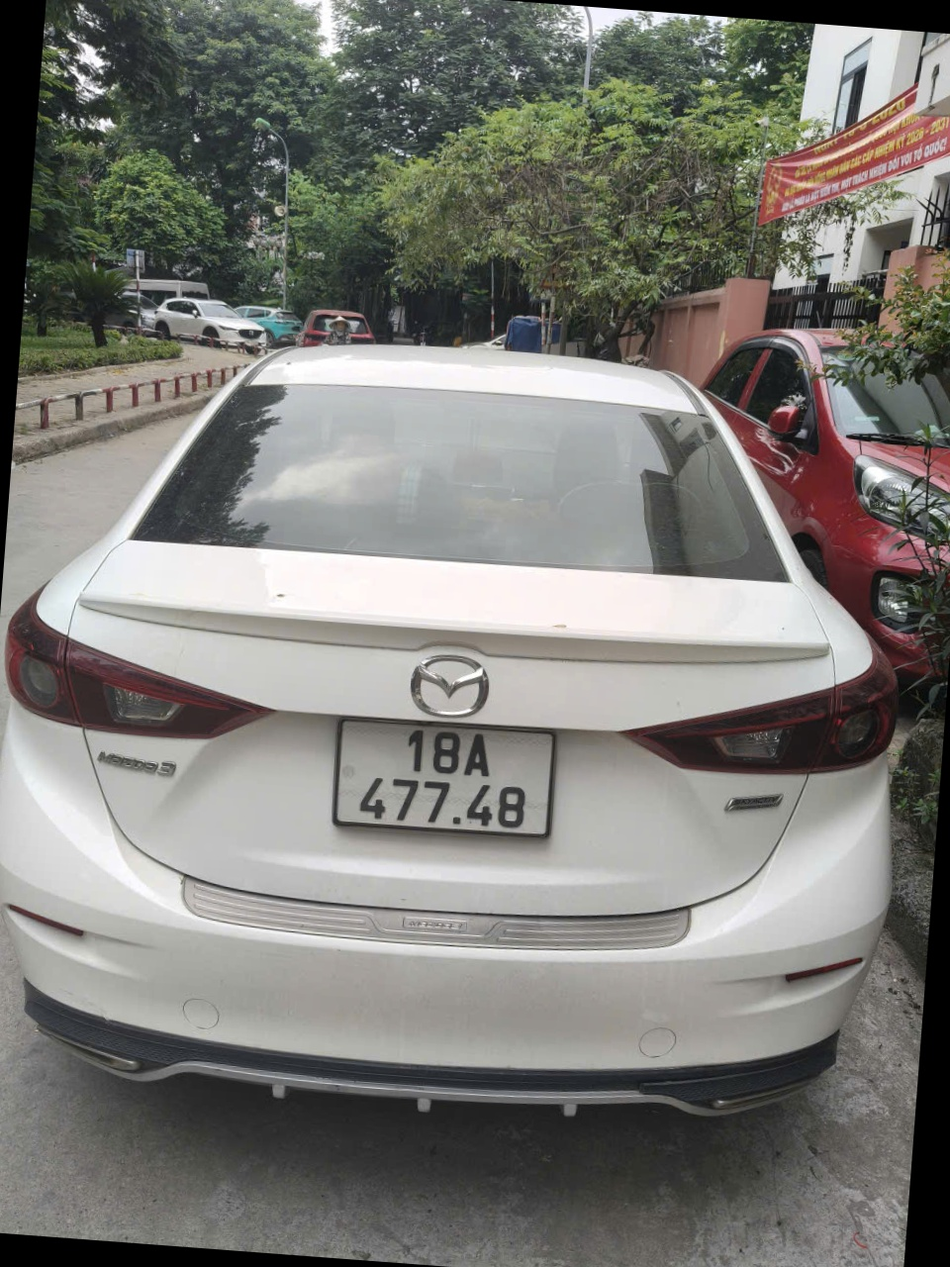plate: (180, 881, 294, 924)
